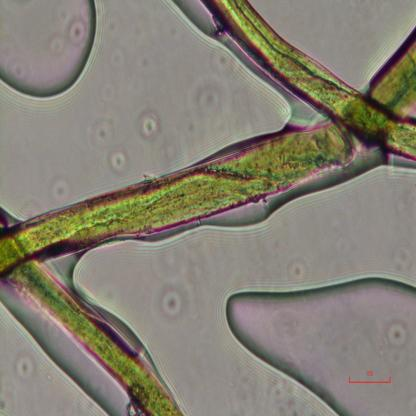Air bubble: (221, 276, 416, 415), (0, 0, 107, 108)
Background material: (156, 280, 188, 320), (136, 112, 163, 145), (92, 112, 115, 149), (386, 317, 410, 352), (286, 258, 310, 285), (15, 352, 36, 382), (108, 149, 129, 173)
Microfibre: (0, 36, 416, 270), (208, 0, 416, 160), (14, 256, 181, 415)
